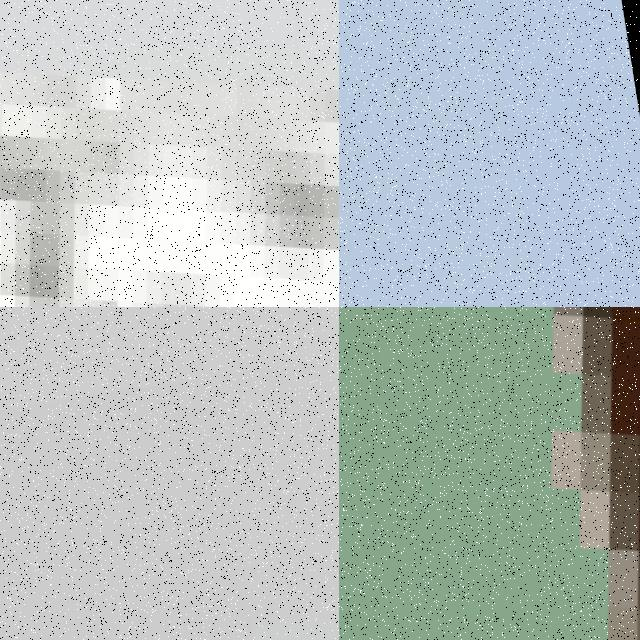0: (0, 0, 339, 307)
drone: (339, 307, 640, 640)
